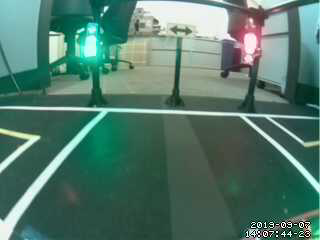Left_Right_sign: (161, 20, 203, 38)
Traffic_light_green: (85, 22, 101, 63)
Traffic_light_red: (241, 30, 261, 70)
